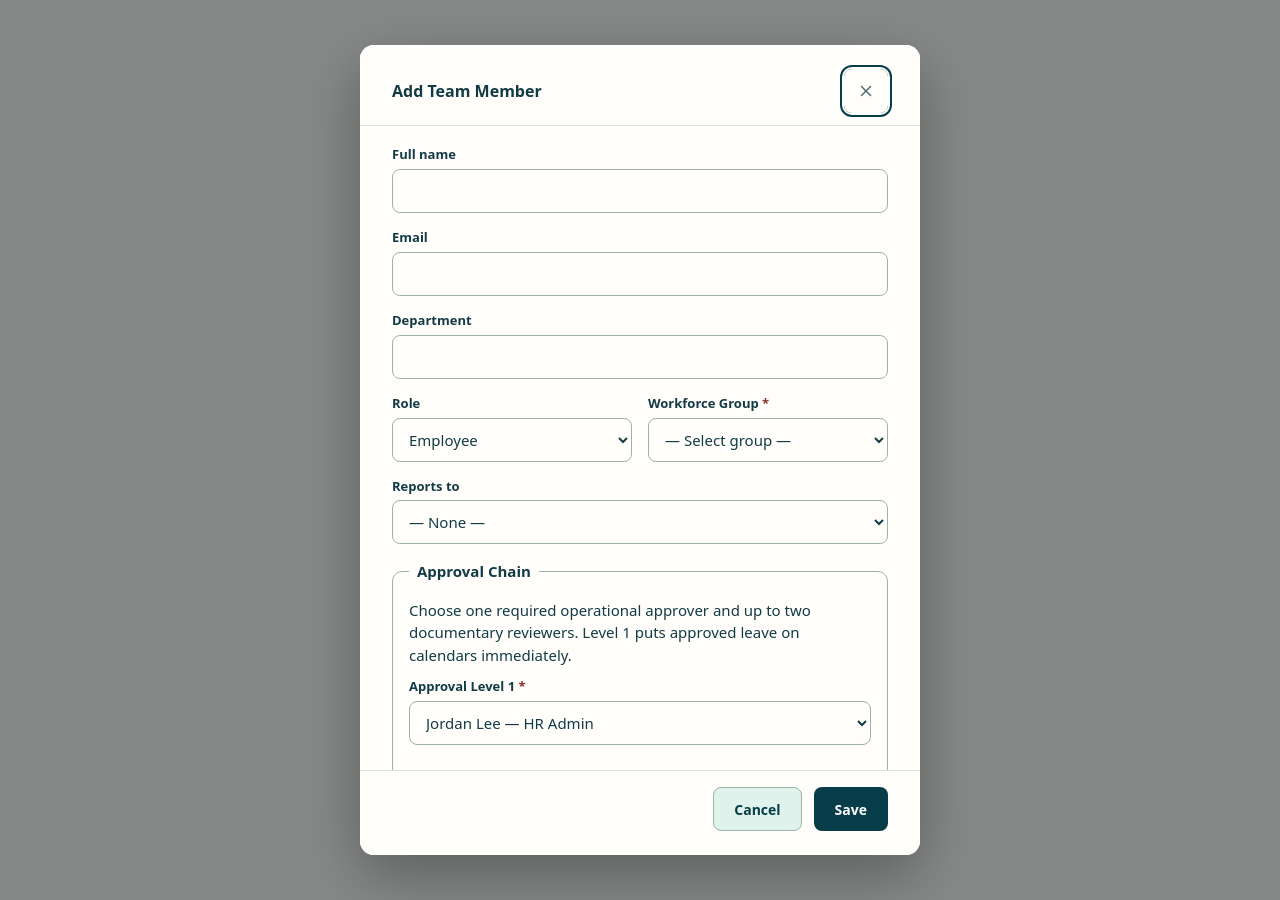
it: TeamMemberModal — add mode › renders an upgrade prompt with CTA for plan-limit marker
Type "Sixth User" into the field labelled "Full name".
click(640, 191); type("Sixth User")  # box [392, 169, 888, 213]
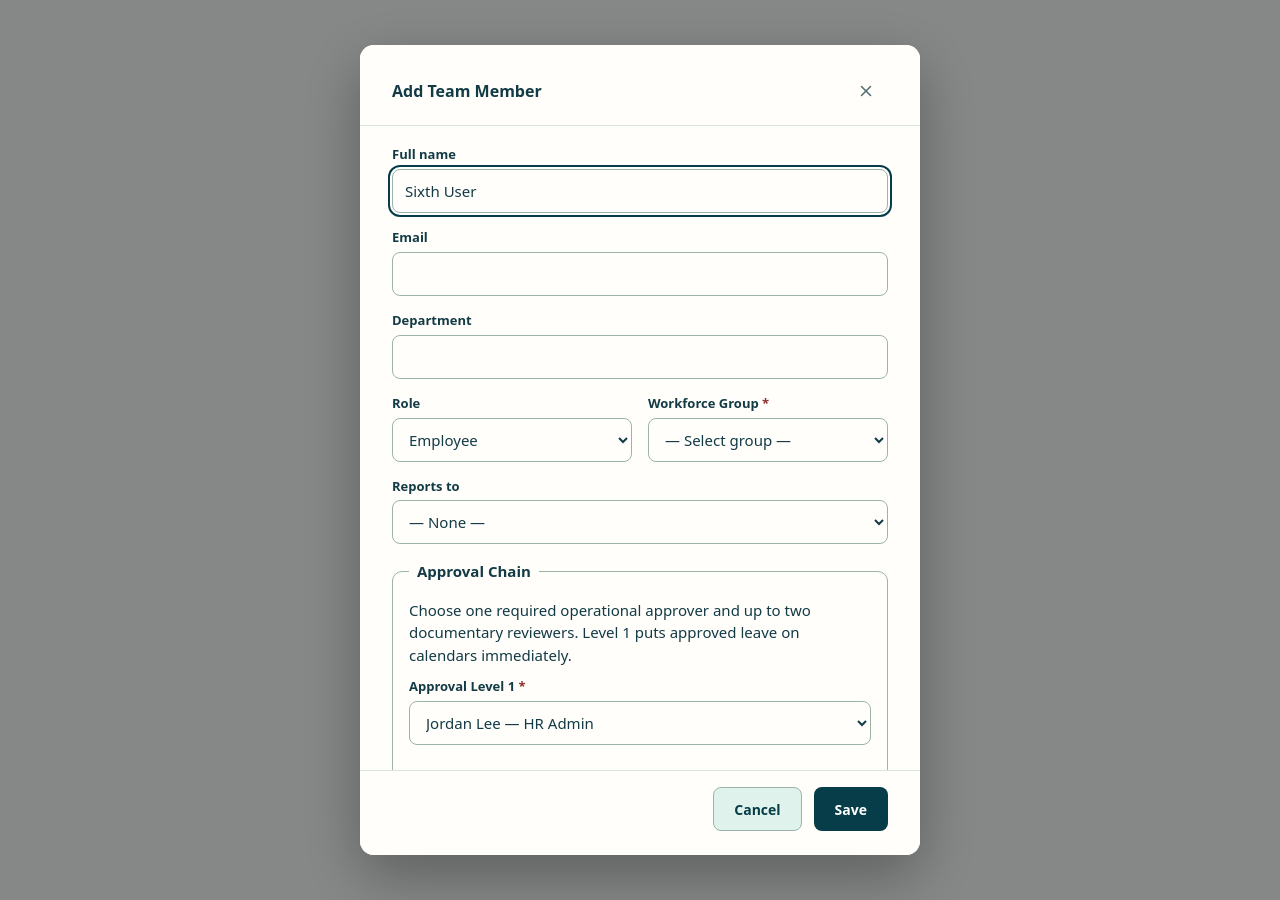
Type "sixth@company.com" into the field labelled "Email".
click(640, 274); type("sixth@company.com")  # box [392, 252, 888, 296]
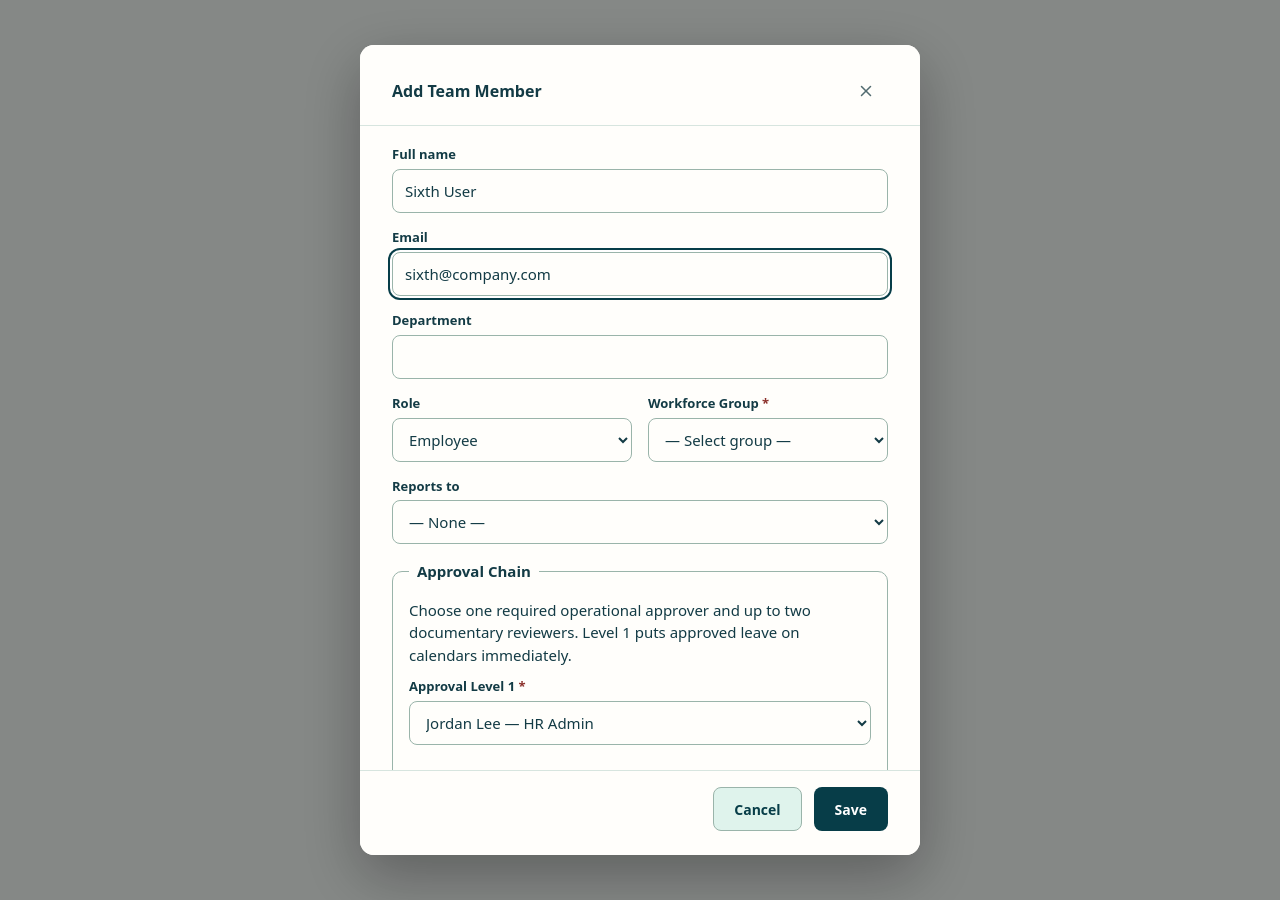
Type "Ops" into the field labelled "Department".
click(640, 357); type("Ops")  # box [392, 335, 888, 379]
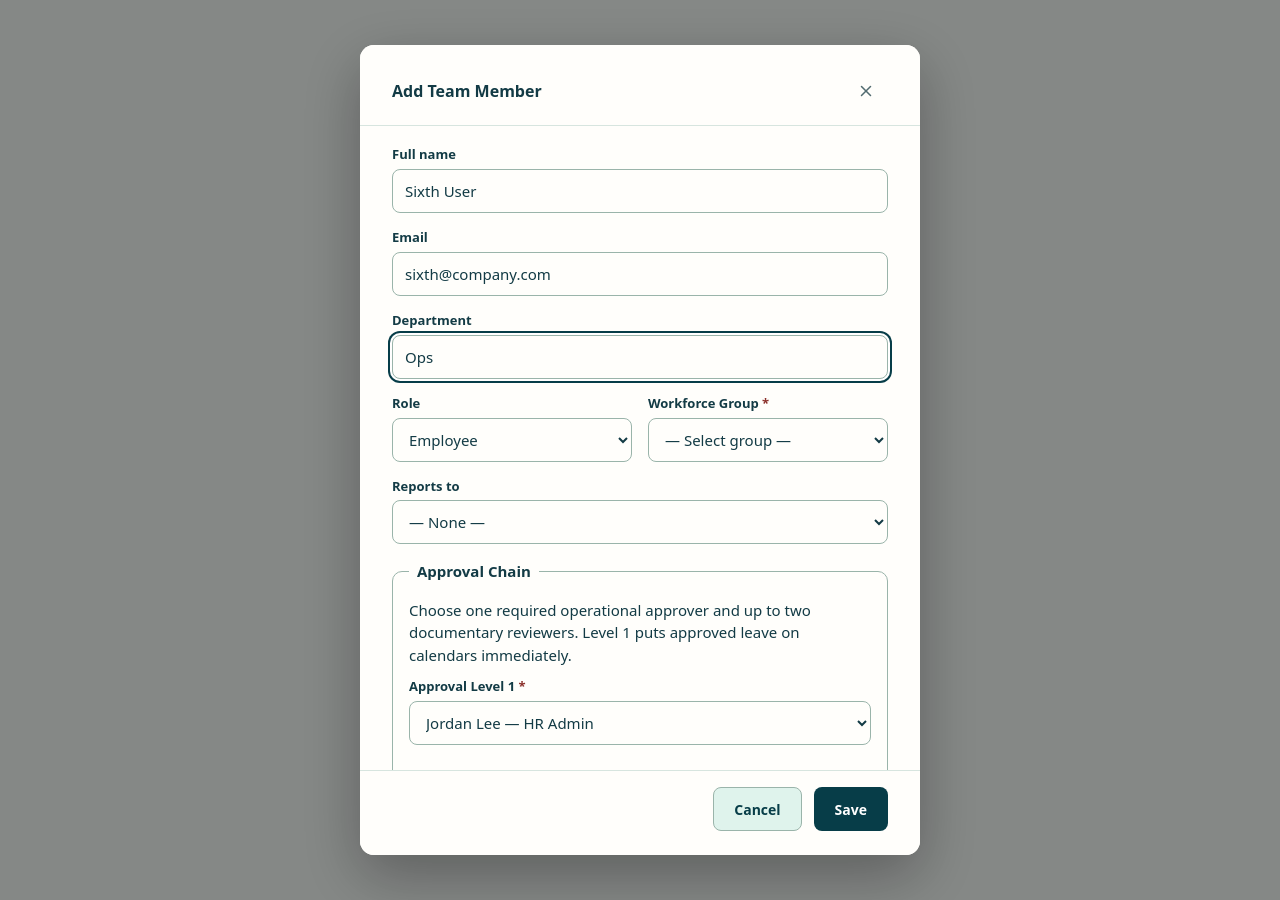
Select "US" in the dropdown labelled "Workforce Group *" at (768, 440), box [648, 418, 888, 462]
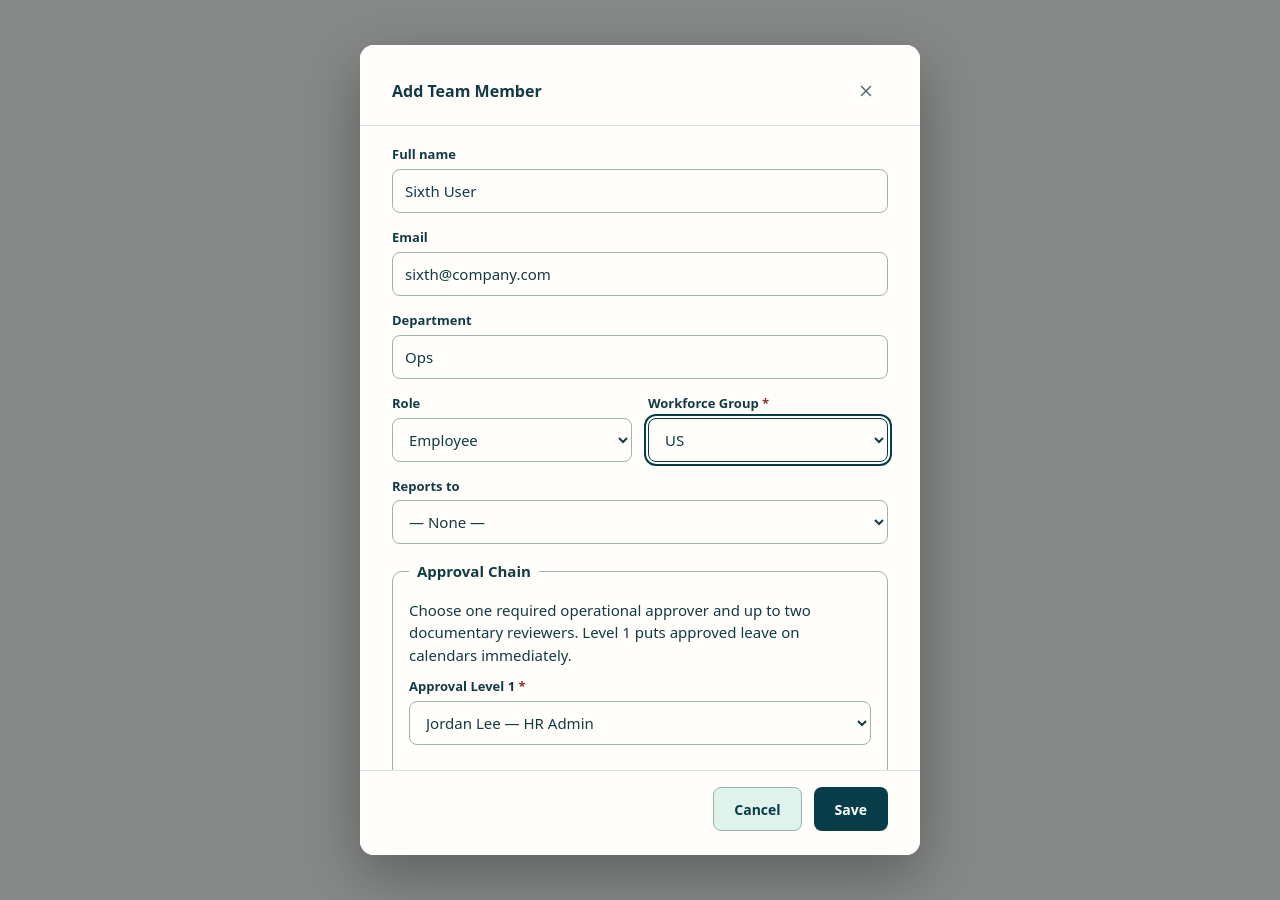
Click the button "Save".
click(851, 809)  # box [814, 787, 888, 831]
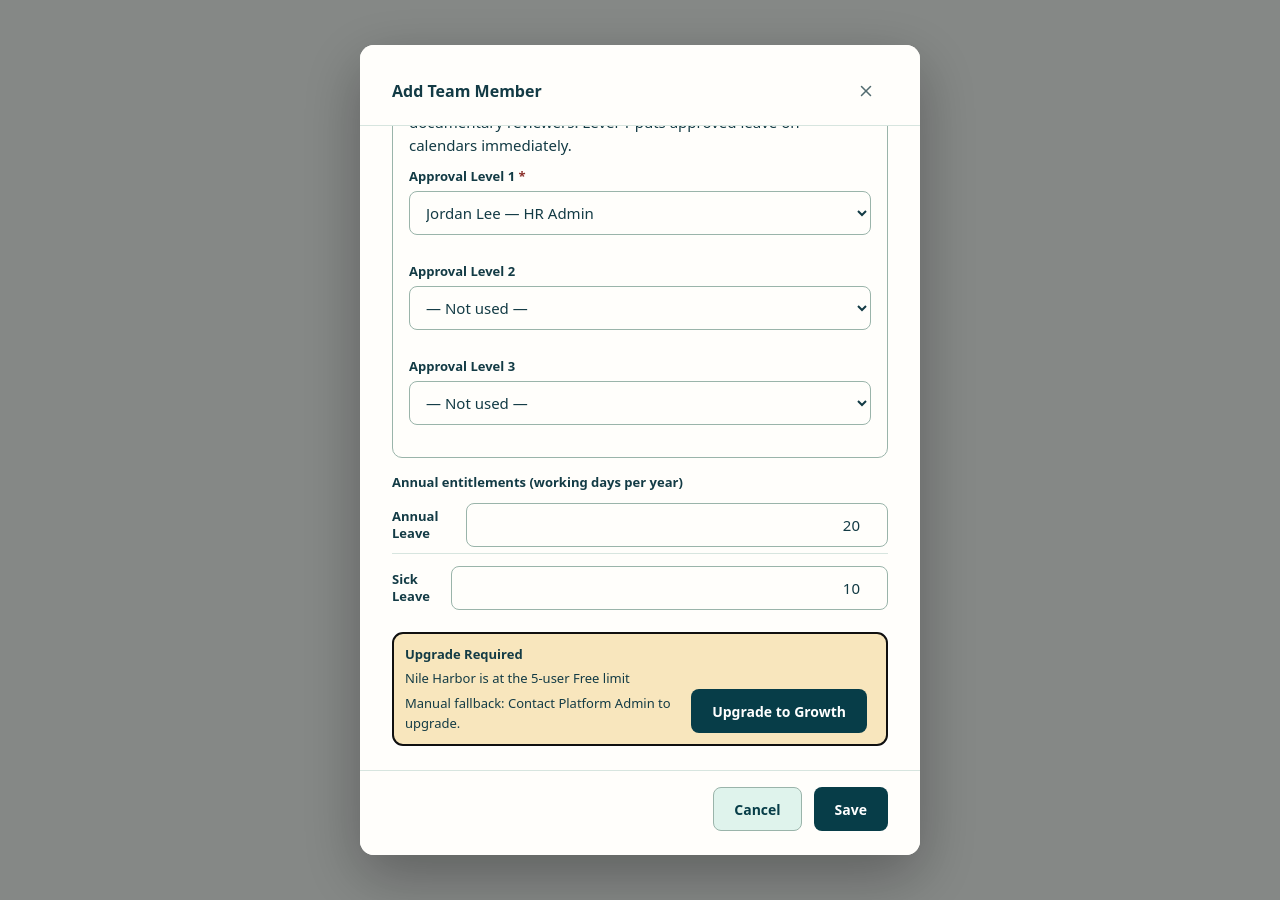
Check: the message shows "Nile Harbor is at the 5-user Free limit", box [405, 668, 630, 686]
Check: the button "Upgrade to Growth" is shown, box [691, 689, 867, 733]
Check: the text "Manual fallback: Contact Platform Admin to upgrade." is shown, box [405, 694, 675, 733]
